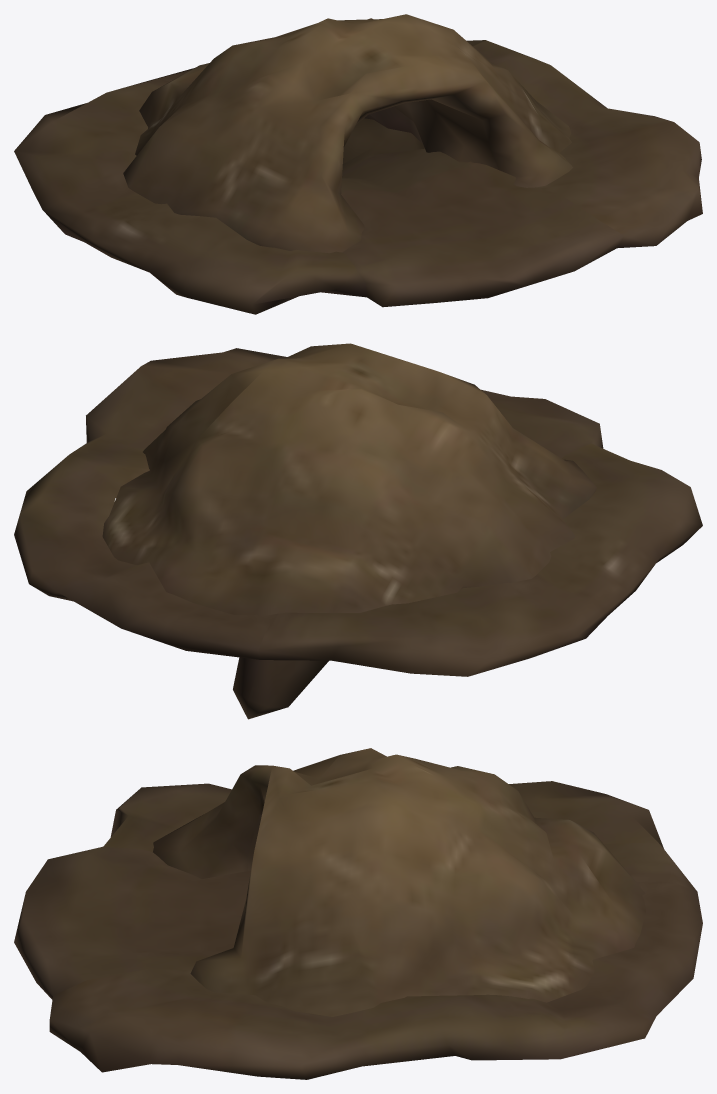
Rendered from yixue_01.FBX.
3 renders of one model, top to bottom at view 1: azimuth 30°, elevation 25°; view 2: azimuth 150°, elevation 25°; view 3: azimuth 270°, elevation 25°, orthographic. The views are drawn at different scales.
Parts seen in each view (by area): view 1: yixue_01_small_a; view 2: yixue_01_small_a; view 3: yixue_01_small_a.
Part boxes in pixels (left/top/right/bottom): yixue_01_small_a: left=14, top=14, right=702, bottom=314; yixue_01_small_a: left=14, top=343, right=702, bottom=719; yixue_01_small_a: left=14, top=748, right=702, bottom=1079.
Bounding box in the file's own units: 190 × 81.21 × 185.
